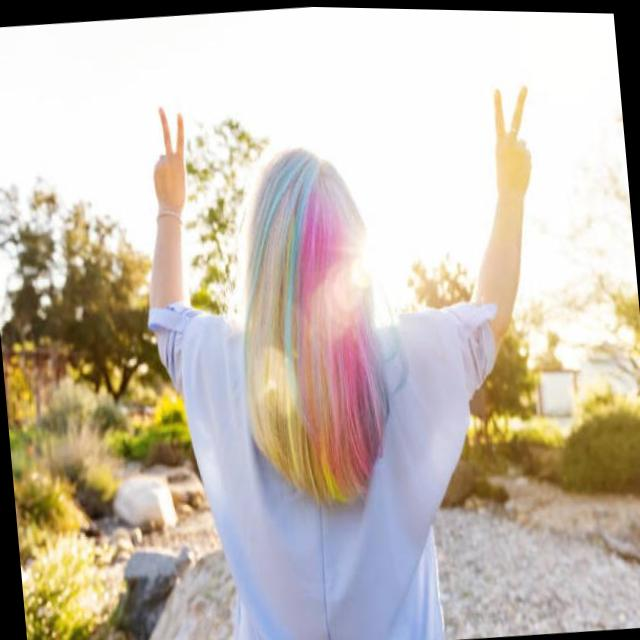no helmet: (236, 135, 364, 340)
